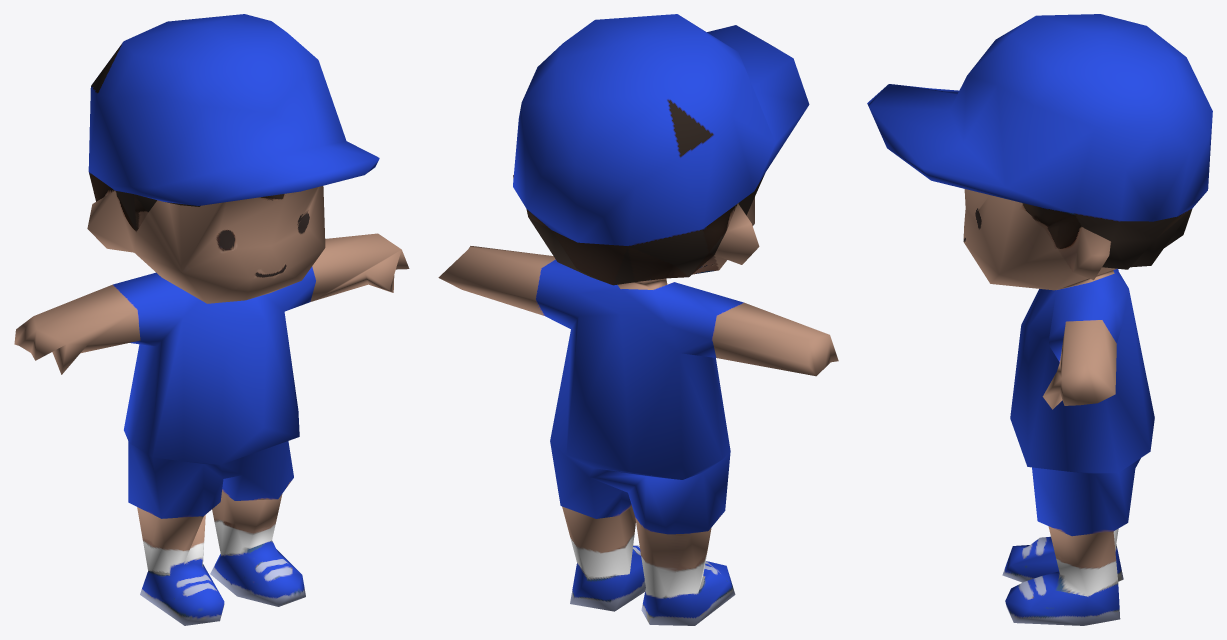
Rendered from kidtexture.glb.
3 renders of one model, left to right at view 1: azimuth 30°, elevation 25°; view 2: azimuth 150°, elevation 25°; view 3: azimuth 270°, elevation 25°, orthographic.
Visible parts, largest first — view 1: node_low; view 2: node_low; view 3: node_low.
Part boxes in pixels (<box>): node_low: <box>14,14,409,625</box>; node_low: <box>438,14,838,625</box>; node_low: <box>867,14,1212,625</box>.
Bounding box in the file's own units: 0.8064 × 1.15 × 0.639.
1 material, 1 textured.
